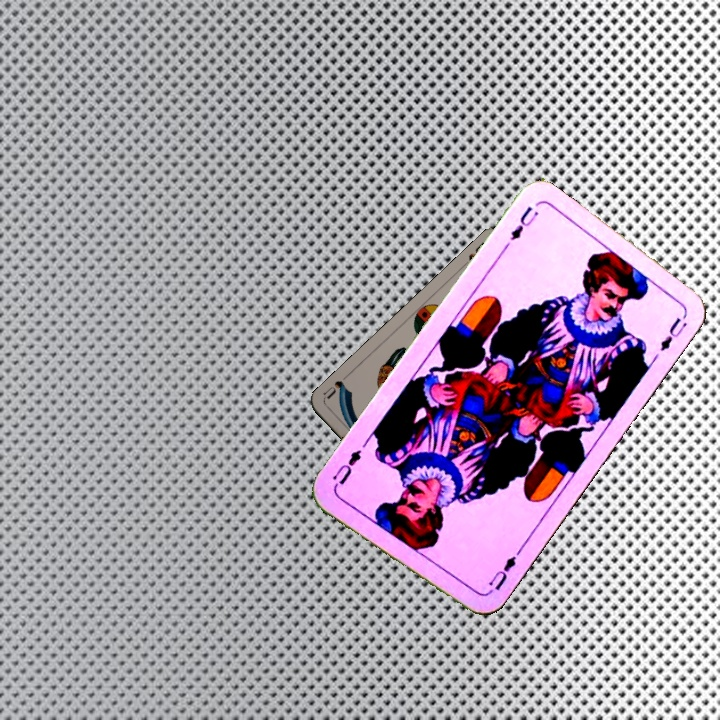EU: (482, 551, 519, 597), (506, 202, 541, 243)
